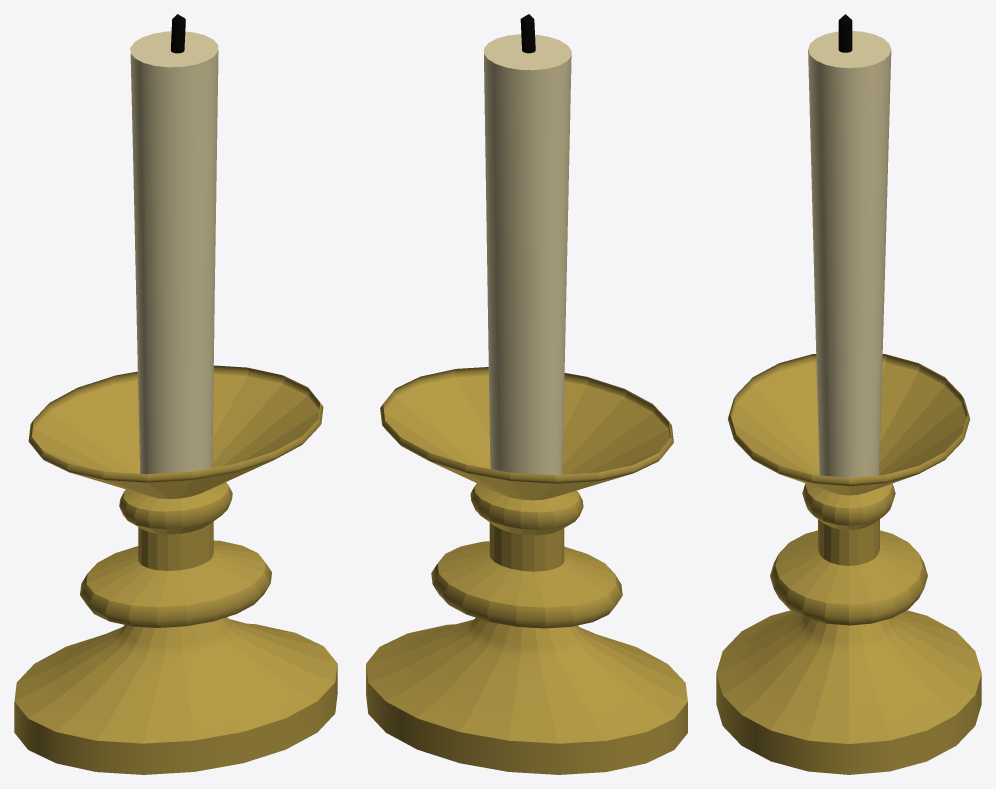
The model's file is Candle.fbx.
The picture shows the model from 3 angles, left to right: view 1: azimuth 30°, elevation 25°; view 2: azimuth 150°, elevation 25°; view 3: azimuth 270°, elevation 25°; orthographic projection.
Parts seen in each view (by area): view 1: polySurface1; view 2: polySurface1; view 3: polySurface1.
Boxes of the visible parts, x1=… form: polySurface1: x1=14, y1=14, x2=337, y2=774; polySurface1: x1=366, y1=14, x2=687, y2=774; polySurface1: x1=716, y1=14, x2=981, y2=774.
Bounding box in the file's own units: 4.2 × 9.52 × 3.32.
1 material, 1 textured.
